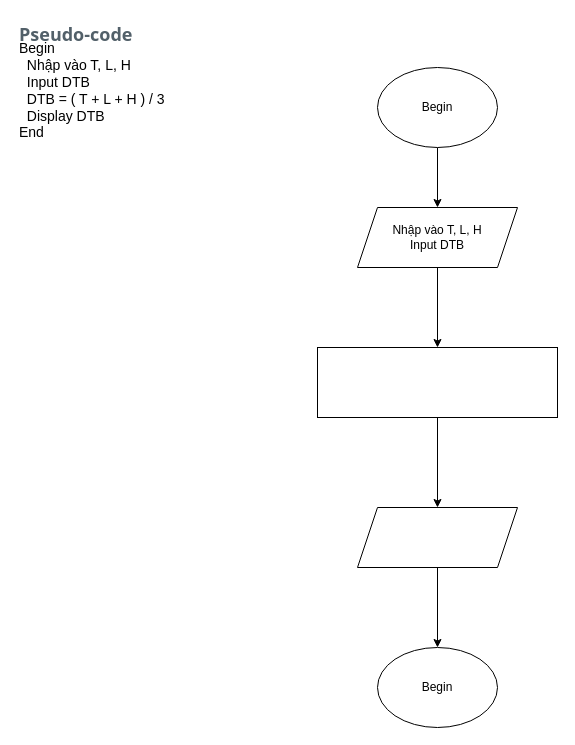
This 575x745 diagram has some shape labels left out. Each missing label, with the centre of its shape:
Display DTB: pixel 437 537
DTB = ( T + L + H ) / 3: pixel 437 382
